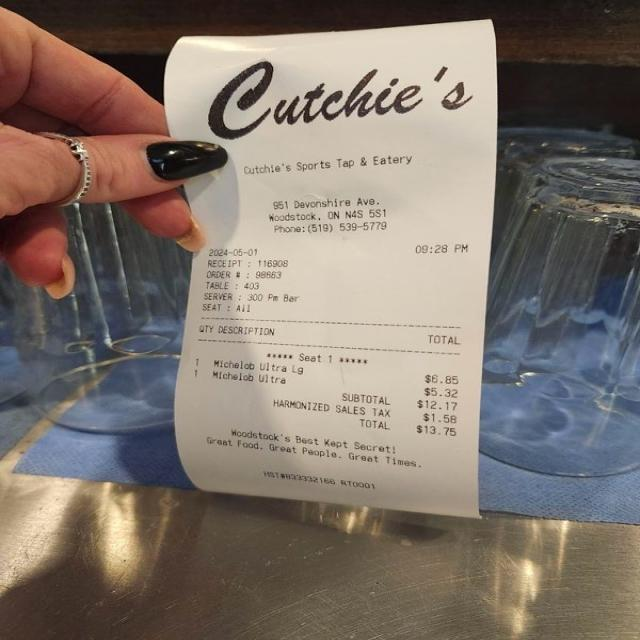item: (204, 367, 463, 400), (204, 358, 463, 387)
store_name: (237, 149, 424, 180)
total_amount: (356, 415, 462, 442)
transaction_date: (204, 244, 264, 260)
